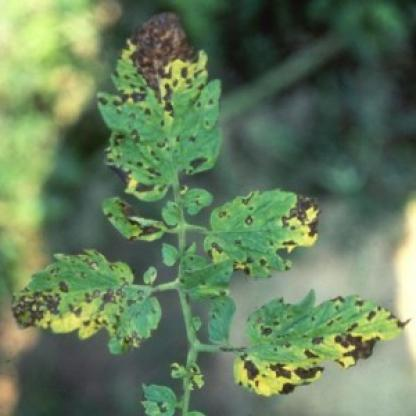tomato septoria leaf spot: (96, 14, 236, 198), (225, 293, 415, 398), (3, 244, 169, 361), (190, 190, 338, 276), (96, 195, 166, 251)
